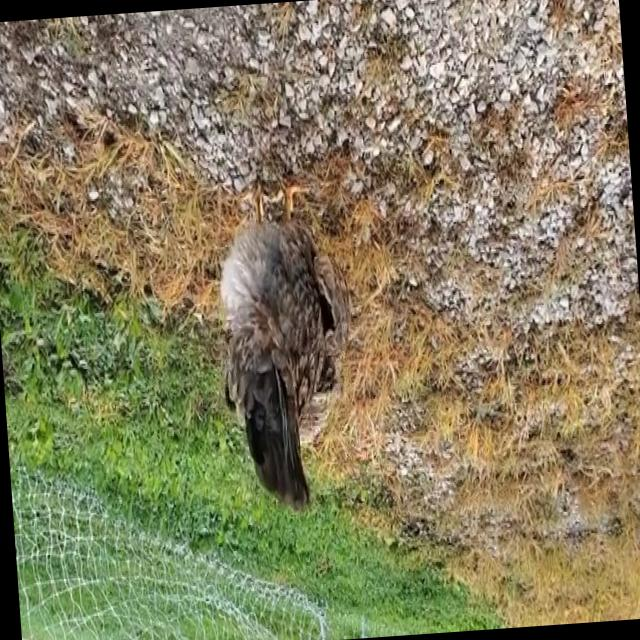self preening: (192, 172, 372, 525)
